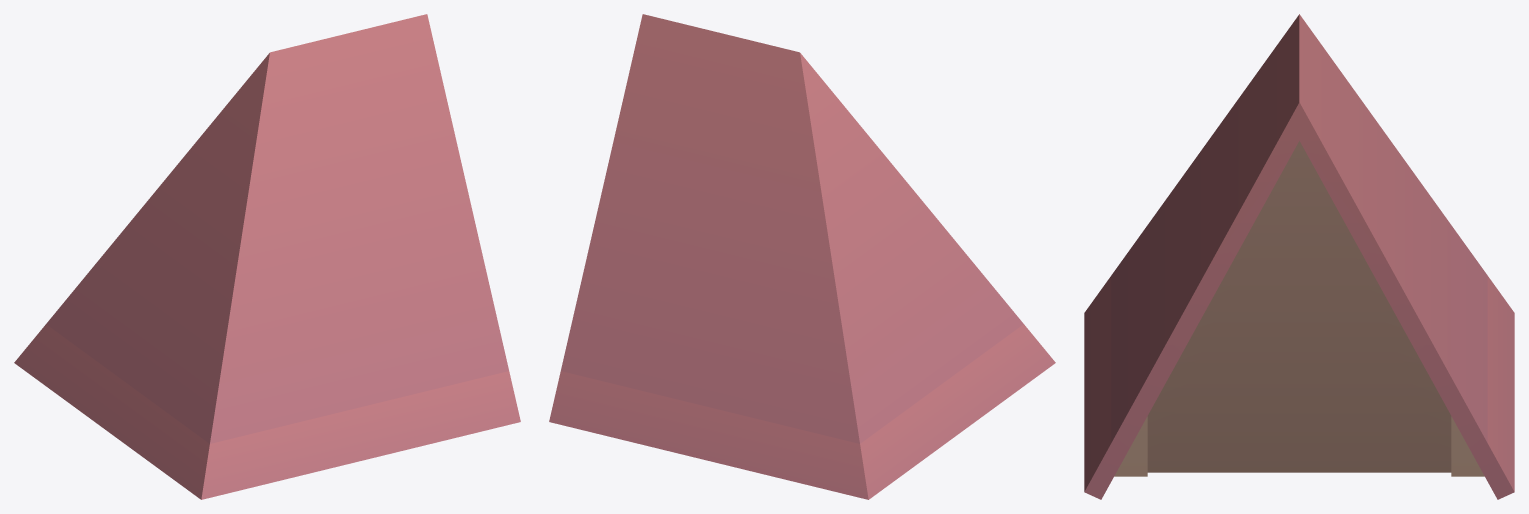
The model's file is roof-high-gable-end.glb.
3 views of the same model, side by side, from view 1: azimuth 30°, elevation 25°; view 2: azimuth 150°, elevation 25°; view 3: azimuth 270°, elevation 25° (orthographic). The views are drawn at different scales.
Visible parts, largest first — view 1: roof-high-gable-end; view 2: roof-high-gable-end; view 3: roof-high-gable-end.
Part boxes in pixels (x1,y1,x2,y2): roof-high-gable-end: (14, 14, 520, 499); roof-high-gable-end: (549, 14, 1055, 499); roof-high-gable-end: (1084, 14, 1514, 499).
Size of the model in its own units: 1.12 by 1.16 by 1.13.
